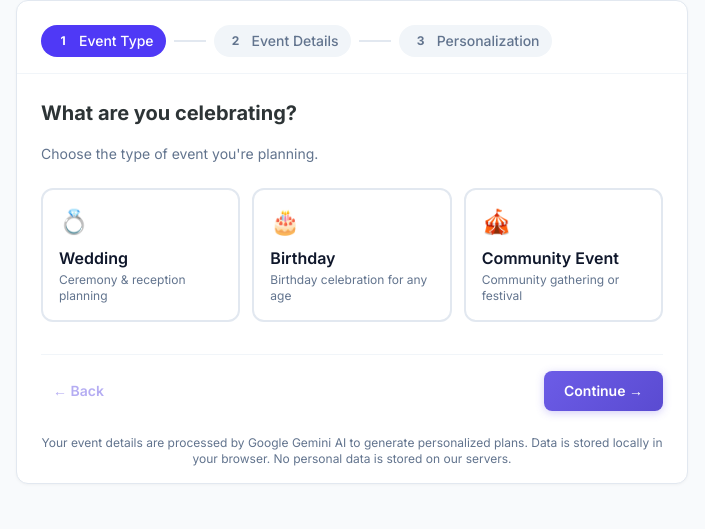
Test: EventWizard › blocks progression until an event type is chosen
The width and height of the screenshot is (705, 529).
Click the button "Continue →" at x=604, y=391, box [544,371,663,411]
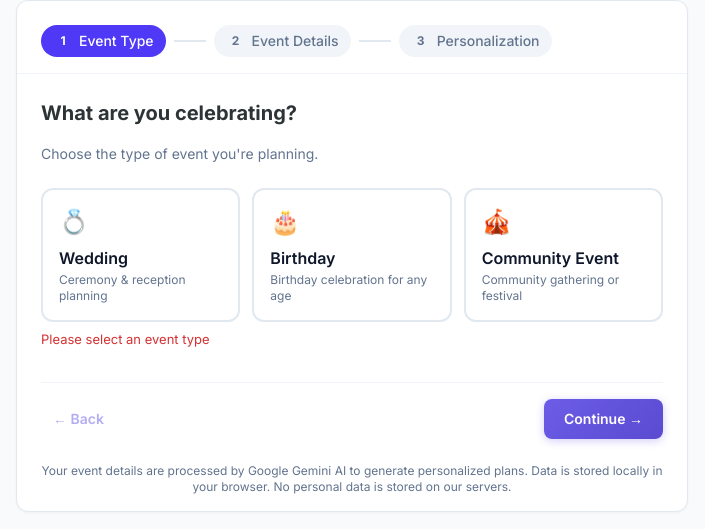
expect the message shows "select an event type": met, box [41,331,210,347]
